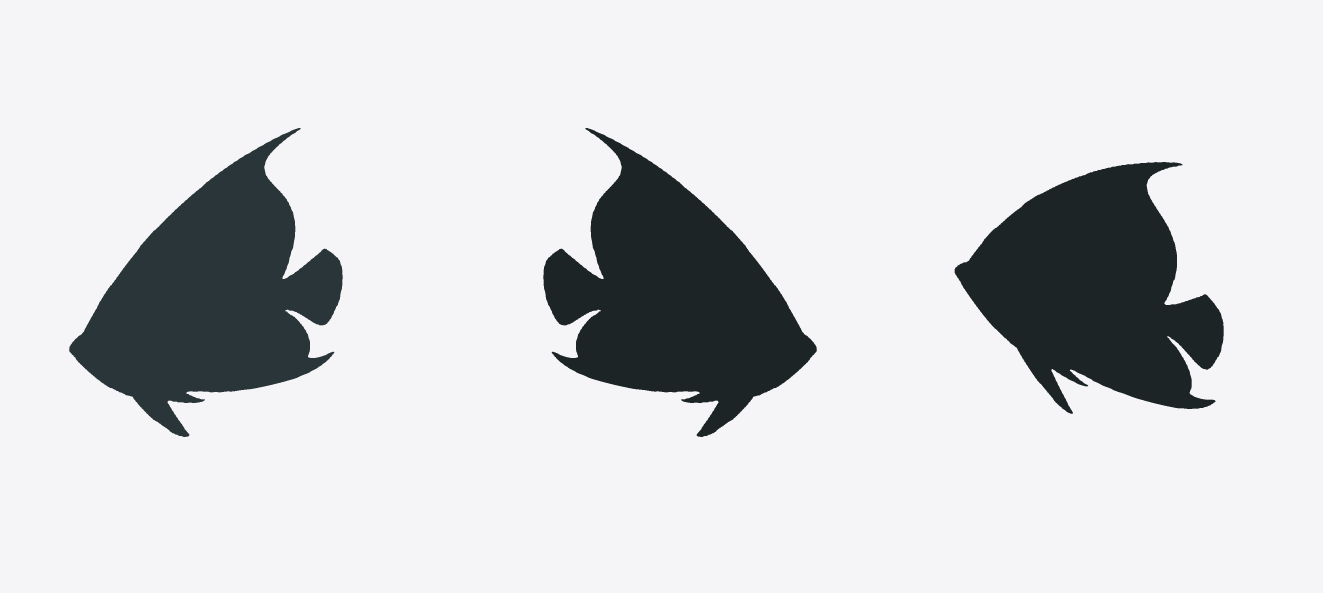
File: fish5.glb
3 renders of one model, left to right at view 1: azimuth 30°, elevation 25°; view 2: azimuth 150°, elevation 25°; view 3: azimuth 330°, elevation 25°, orthographic.
Parts seen in each view (by area): view 1: fish.052; view 2: fish.052; view 3: fish.052.
Boxes of the visible parts, bbox=[...] form: fish.052: bbox=[69, 128, 342, 436]; fish.052: bbox=[543, 128, 816, 436]; fish.052: bbox=[954, 162, 1223, 413].
Bounding box in the file's own units: 0.2311 × 0.2519 × 0.
1 material, 1 textured.
